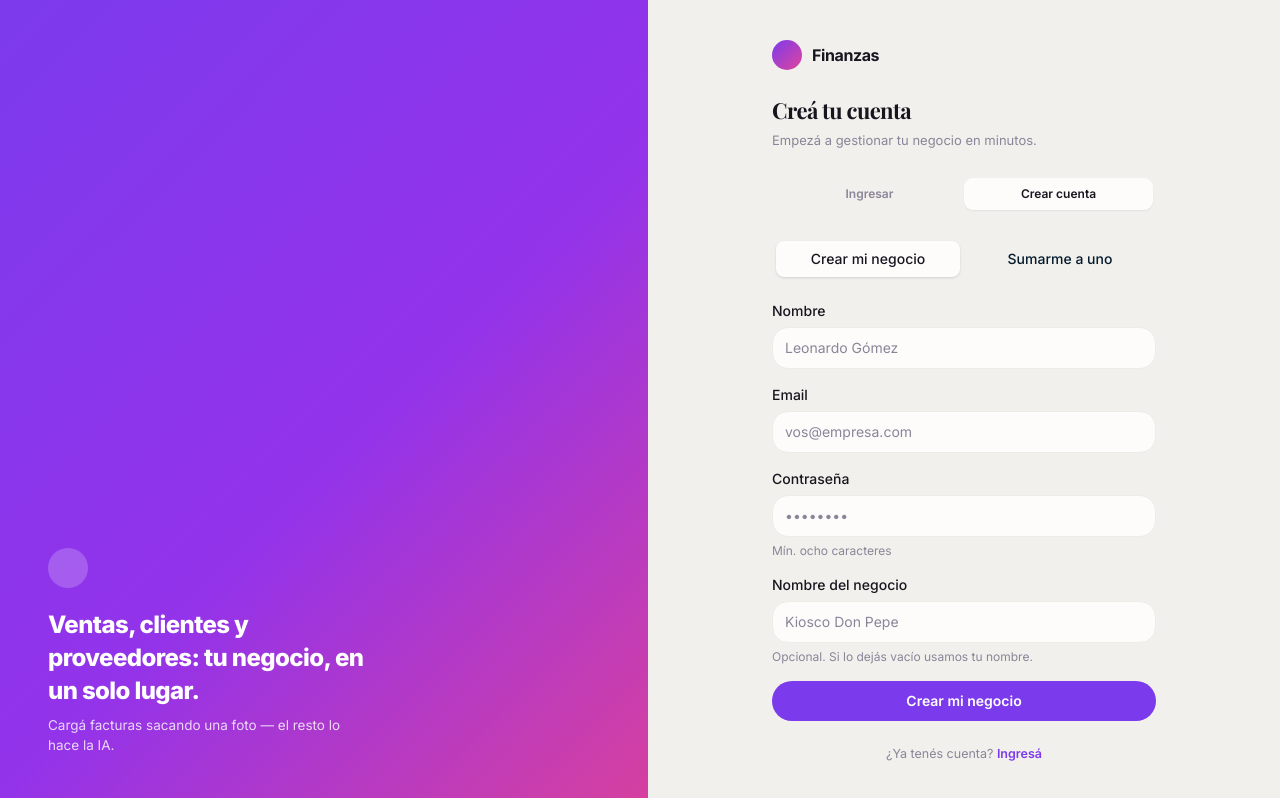
Test: RegisterPage › shows client-side validation error for short password WITHOUT sending request
Type "a@b.com" into the field labelled "Email".
click(964, 432); type("a@b.com")  # box [772,410,1156,452]
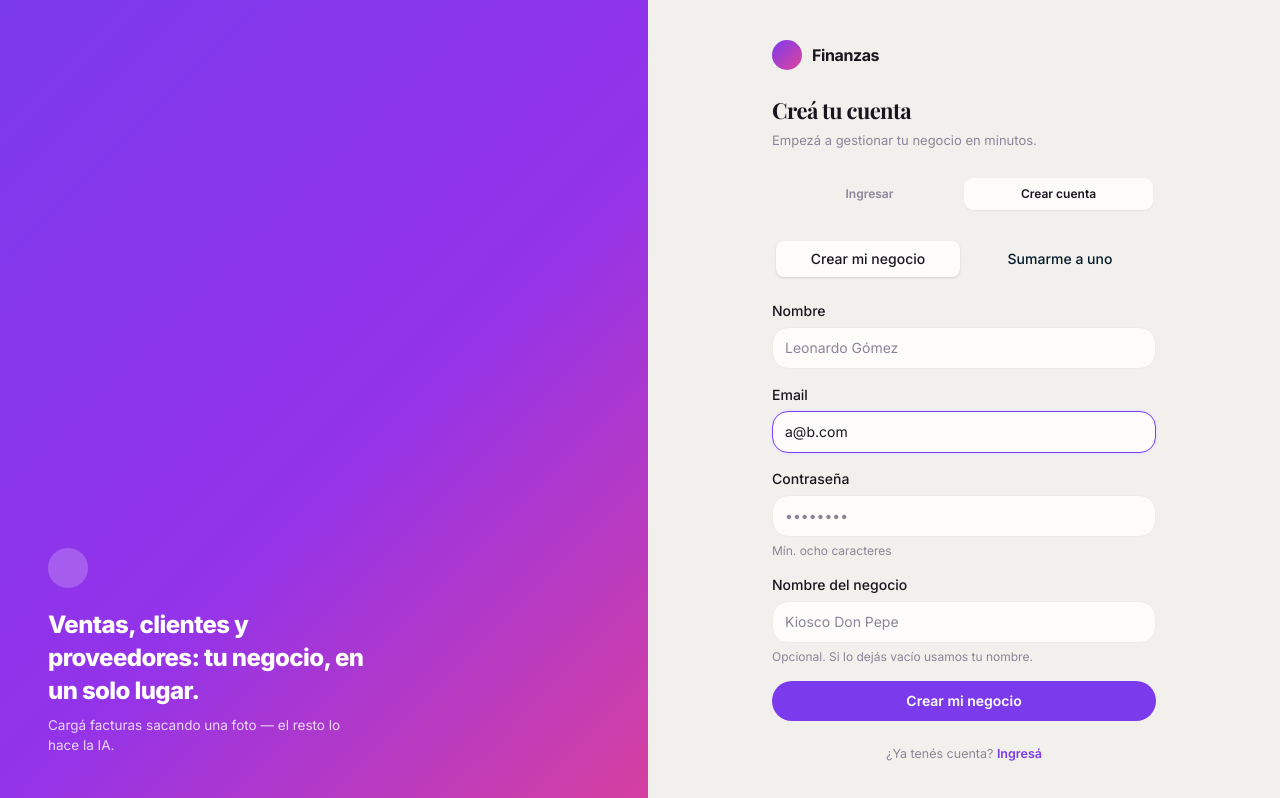
Type "A" into the field labelled "Nombre".
click(964, 348); type("A")  # box [772,326,1156,368]
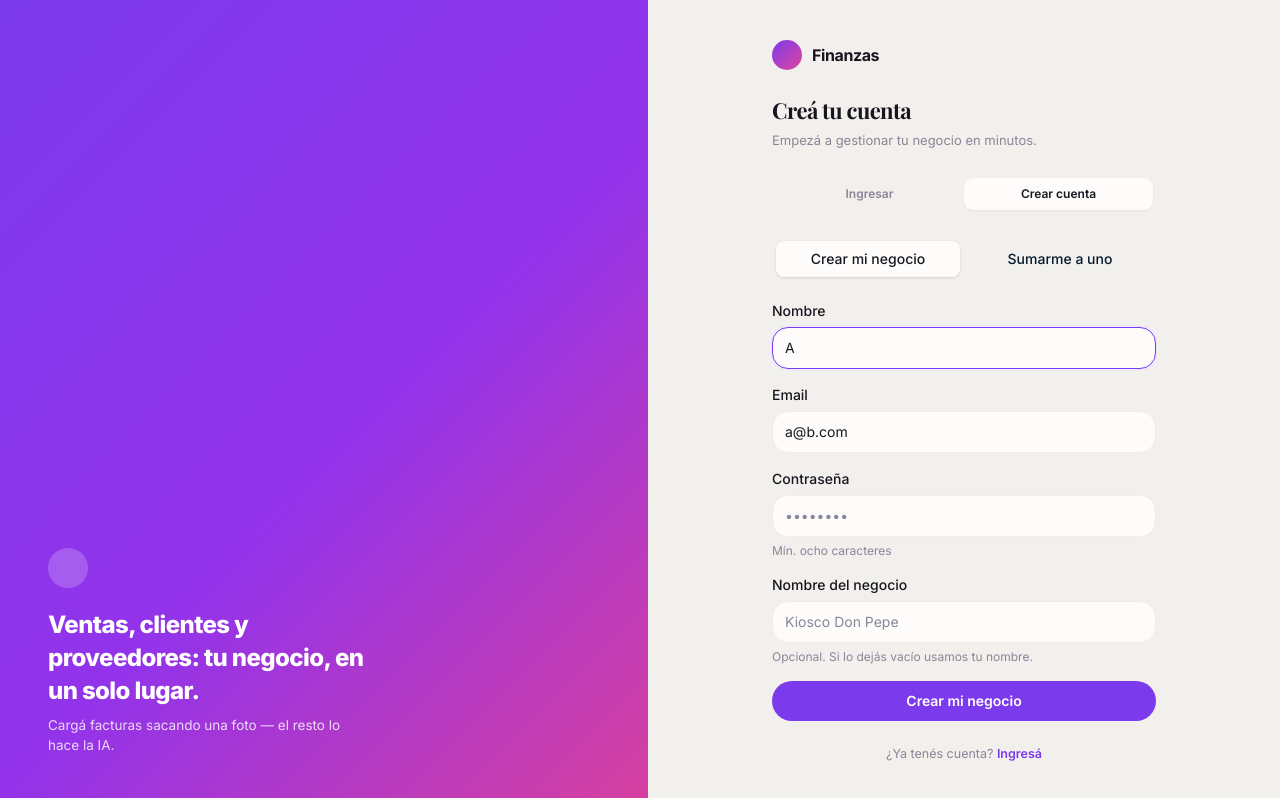
Type "short" into the password field labelled "Contraseña".
click(964, 516); type("short")  # box [772,494,1156,536]
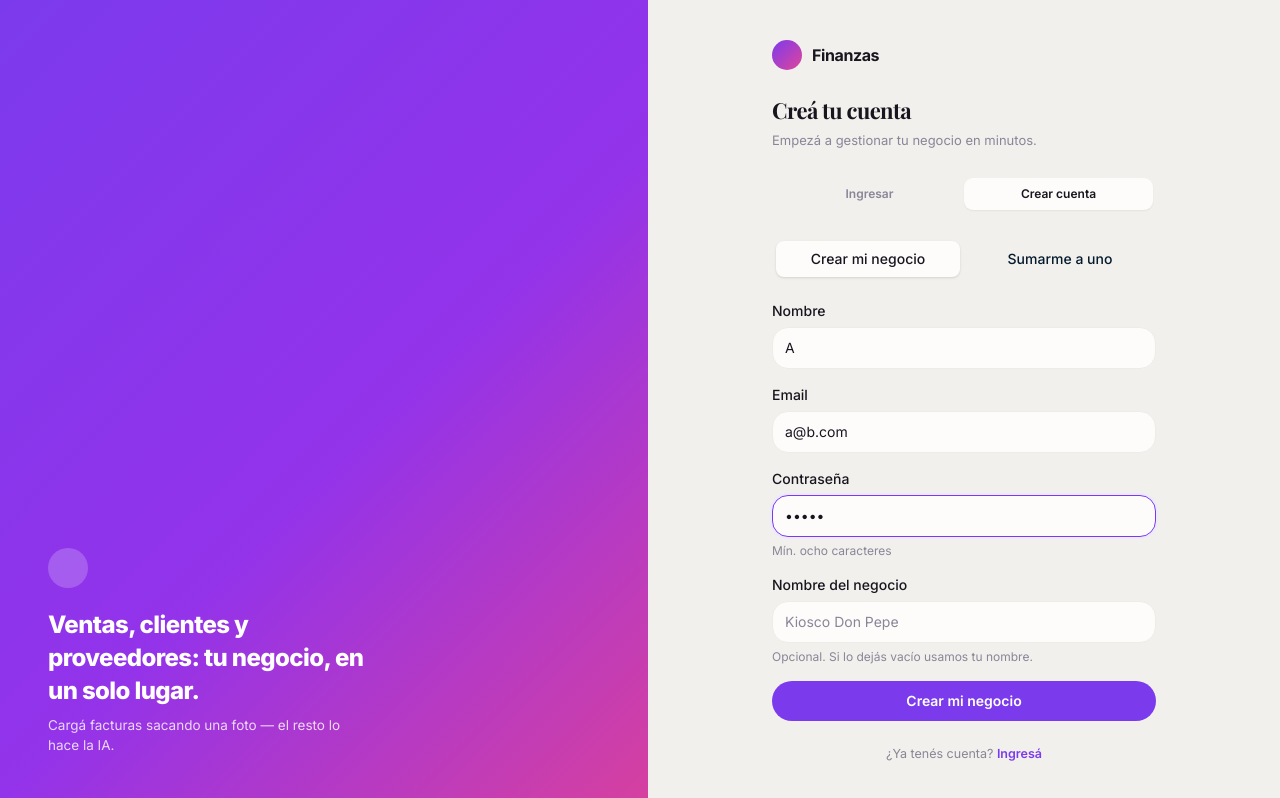
Click the button "Crear mi negocio".
click(964, 700)  # box [772,680,1156,720]
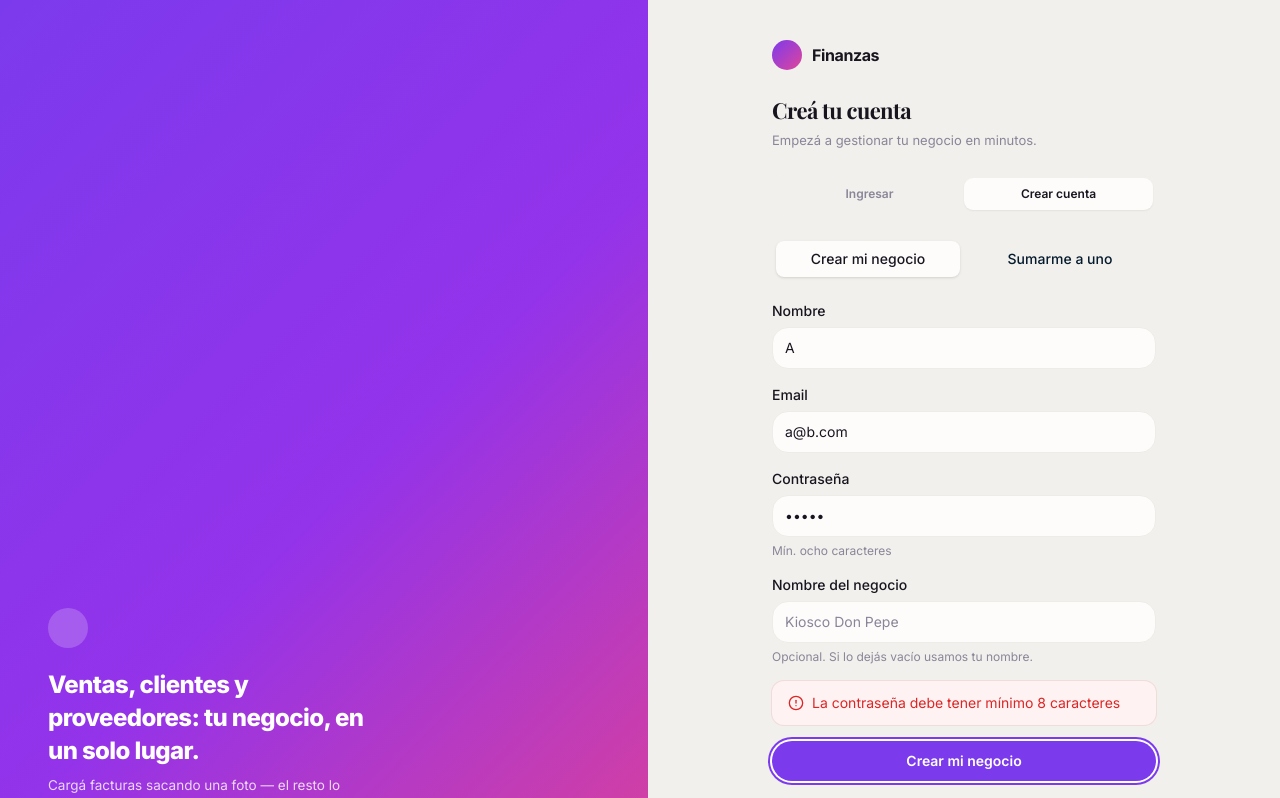
Check: the text "La contraseña debe tener mínimo 8 caracteres" is shown, box [772,680,1156,724]
